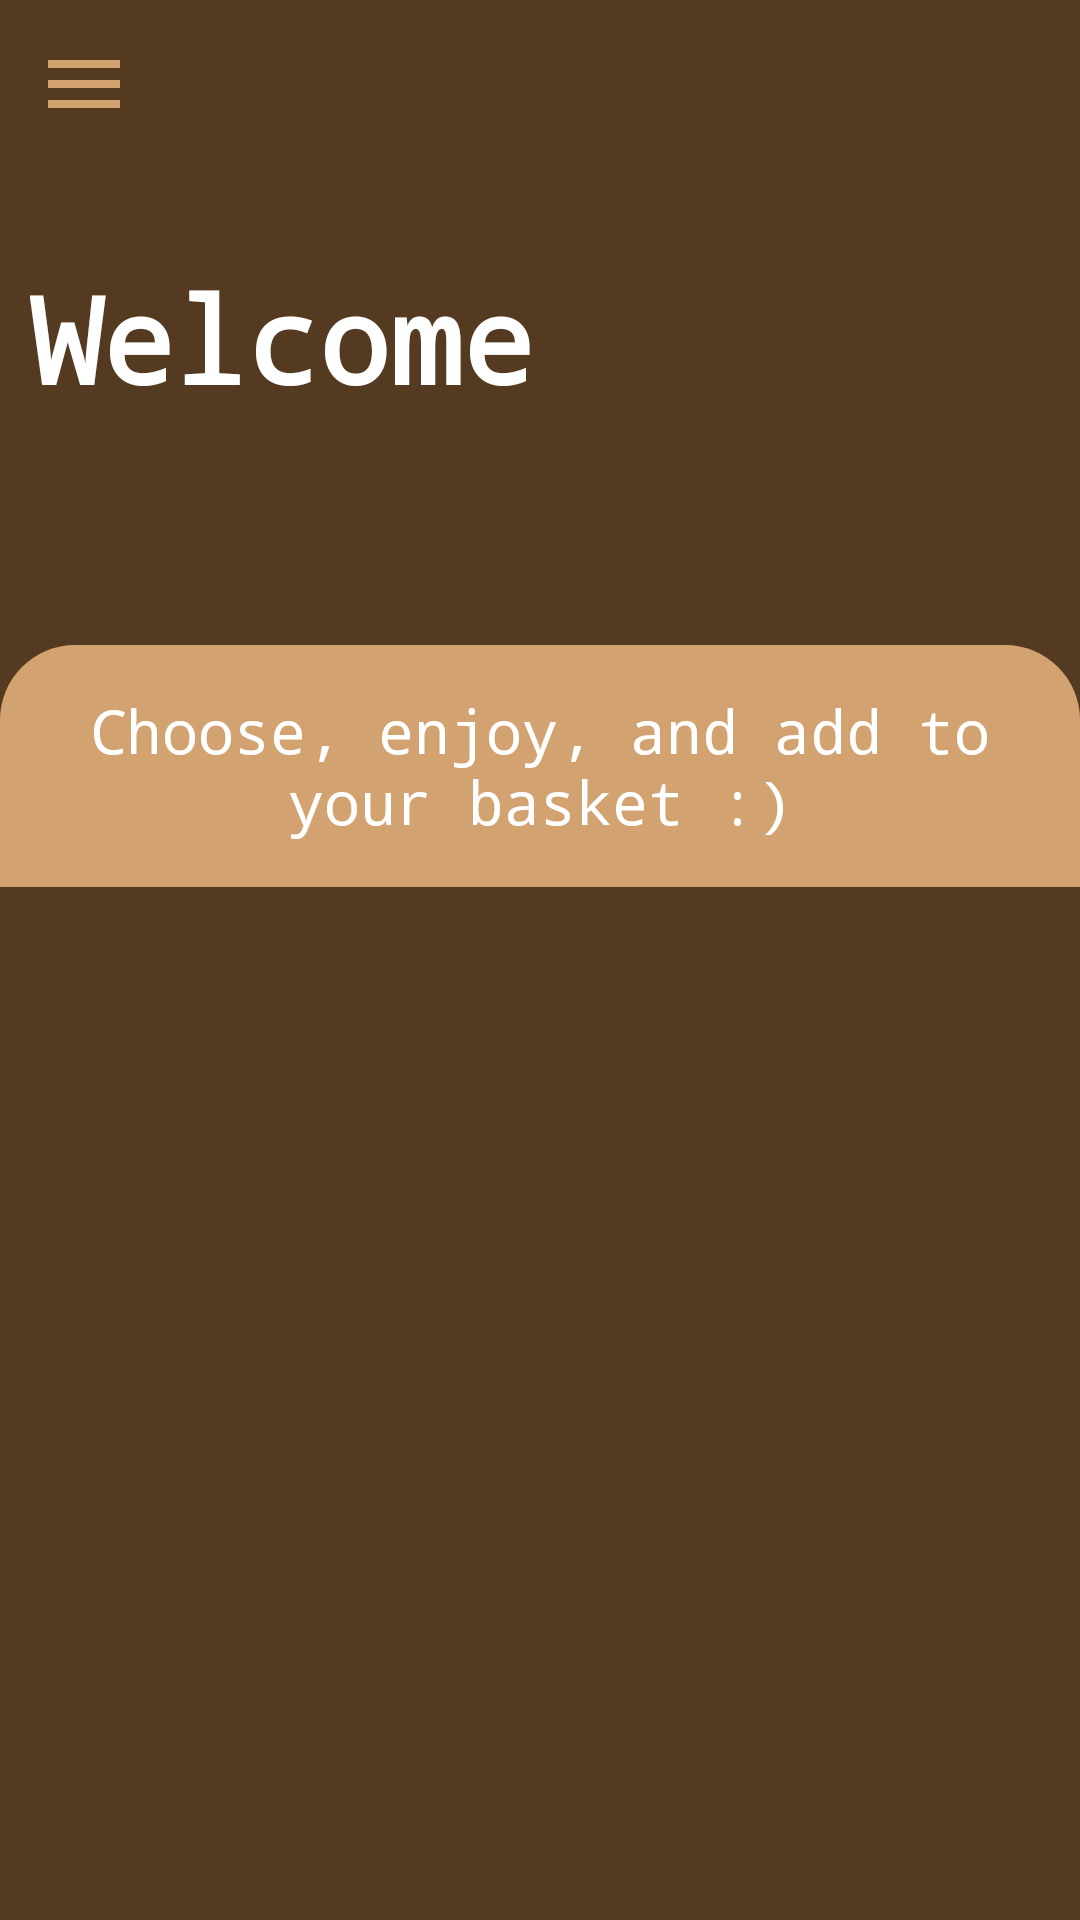

Where to tap for icons on this 1080x1920 app screen, as point (x, y):
menu: point (84, 84)
